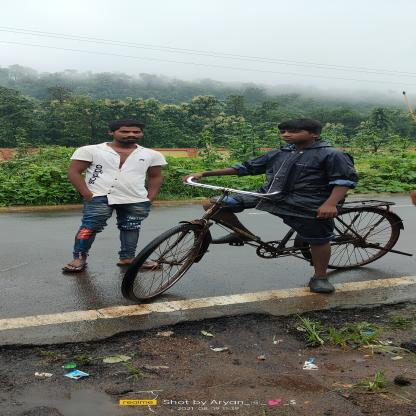bike: (103, 170, 416, 307)
